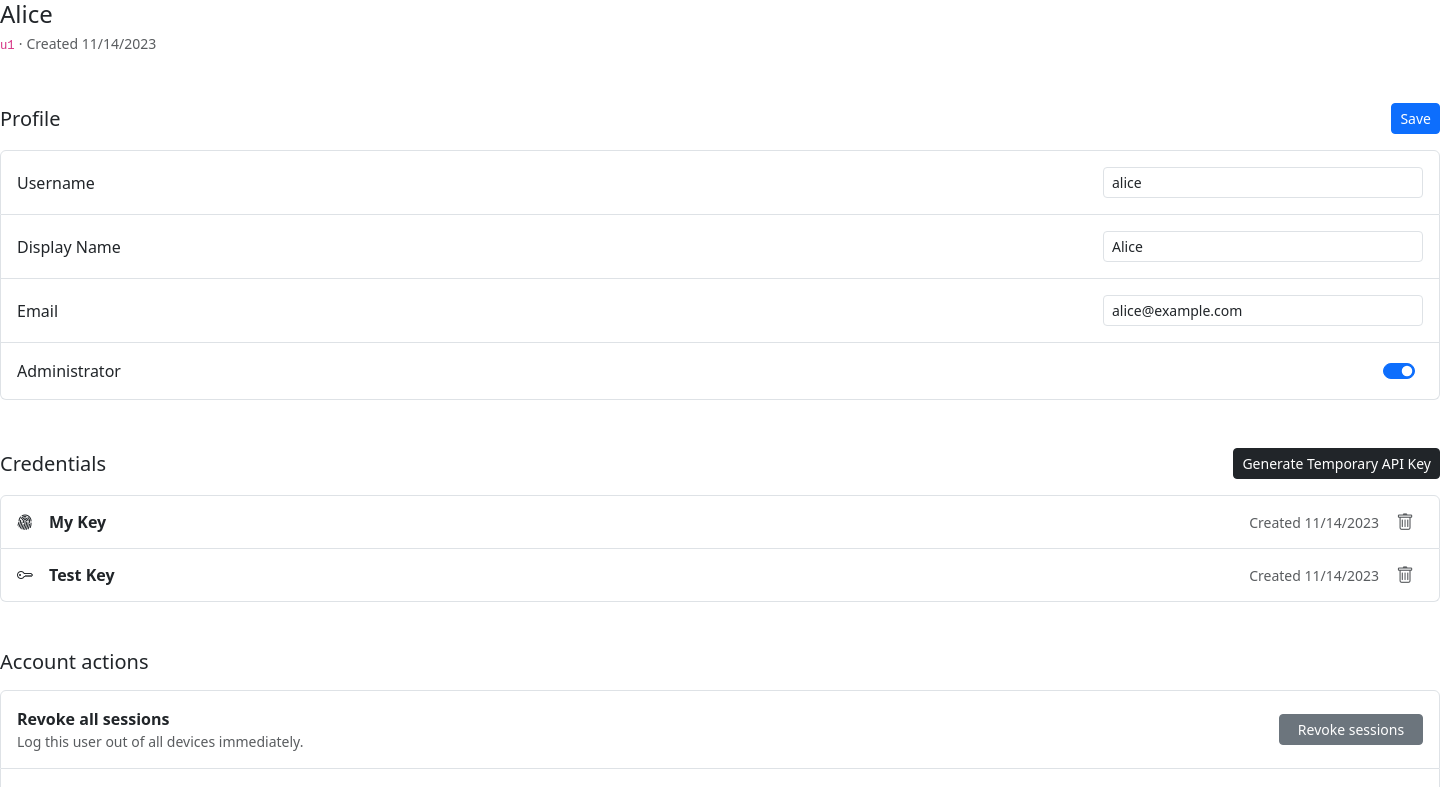
Scenario: AdminUserDetailPage › generates temporary API key and shows result in modal
Click the button "Generate Temporary API Key" at [1337, 464], box [1233,448,1439,479]
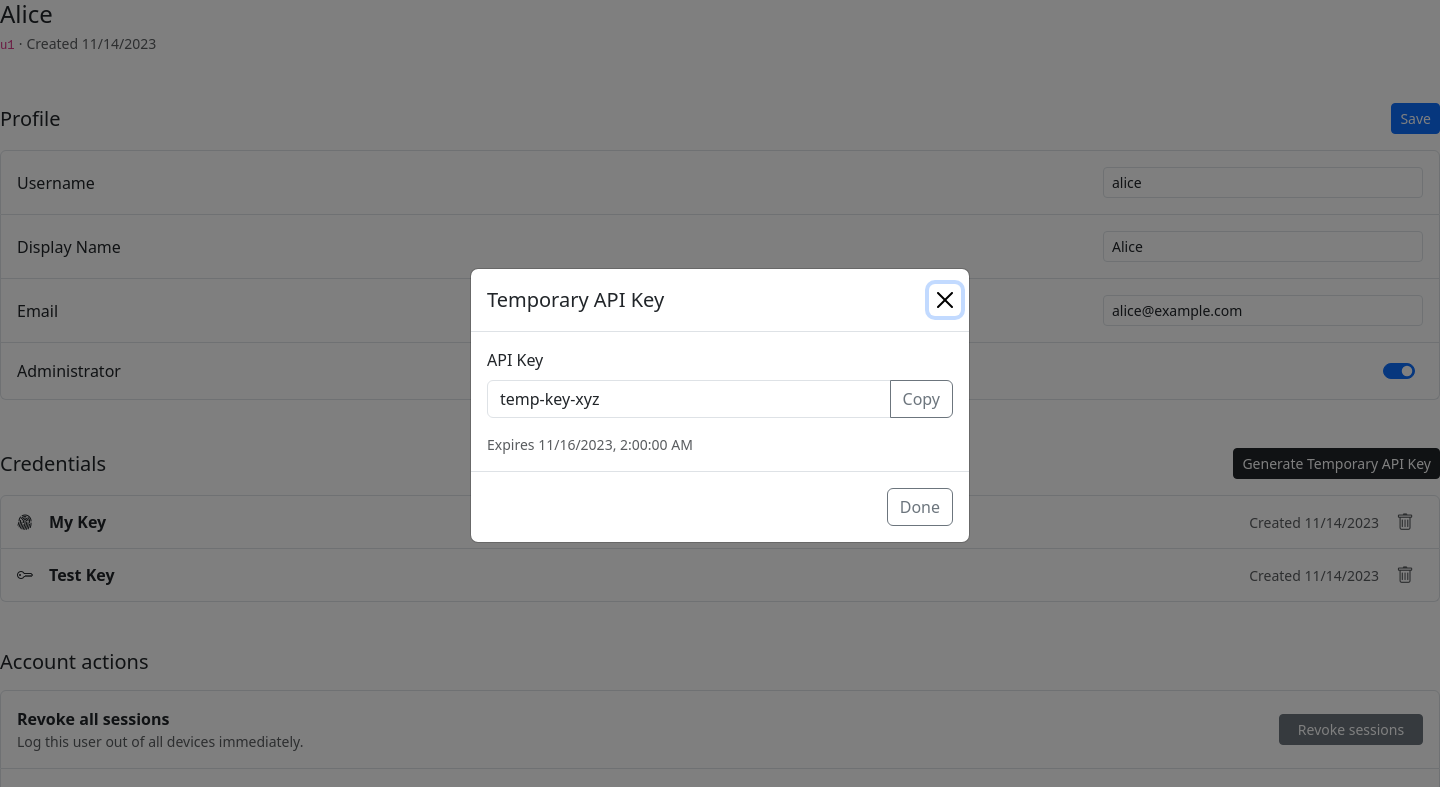
expect the heading "Temporary API Key" is shown: met, box [487,284,664,314]
expect the field showing "temp-key-xyz" is shown: met, box [487,380,890,418]
expect the text "Done" is shown: met, box [900,494,940,518]
